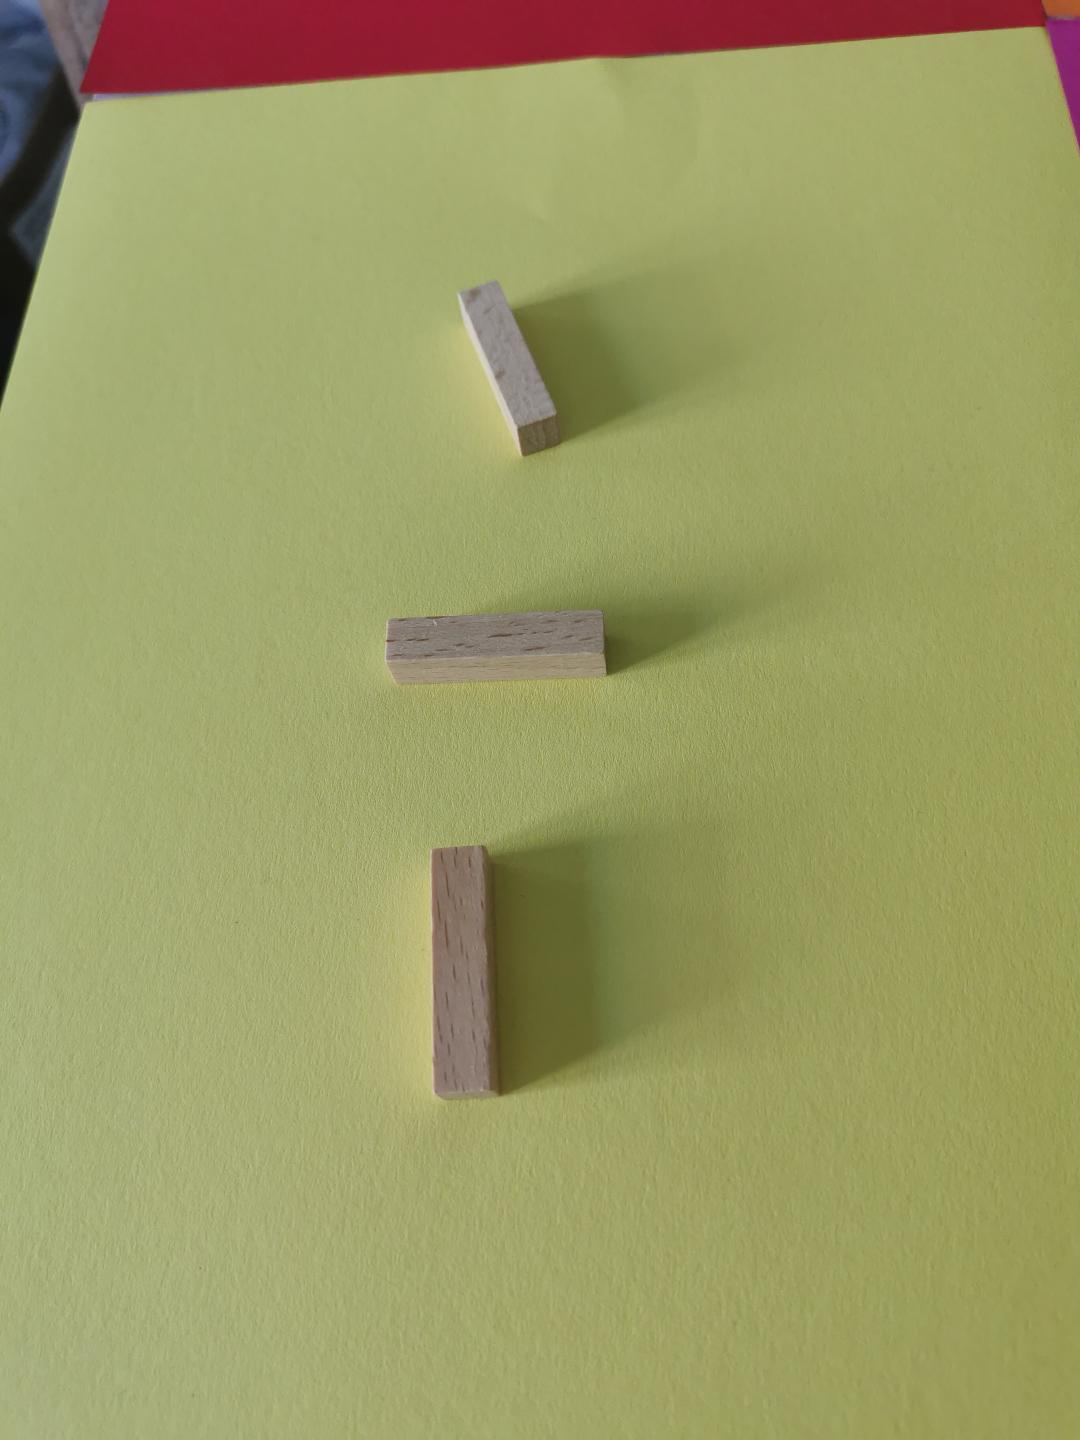jenga: (430, 847, 500, 1100), (458, 281, 559, 456), (386, 610, 608, 684)
